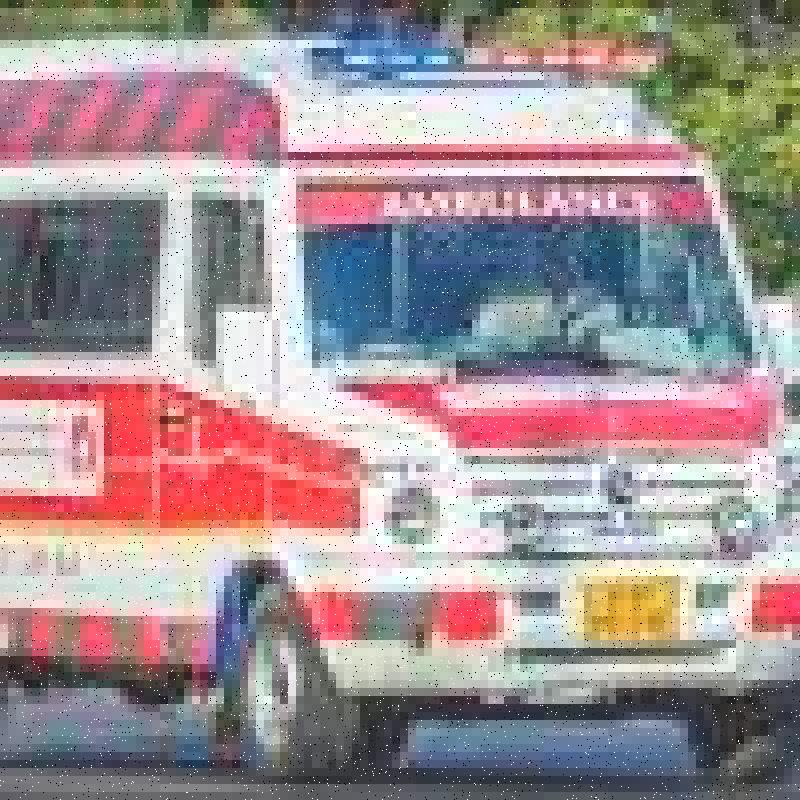AmbulanceSiren: (310, 16, 698, 98)
ambulance: (0, 0, 800, 776)
